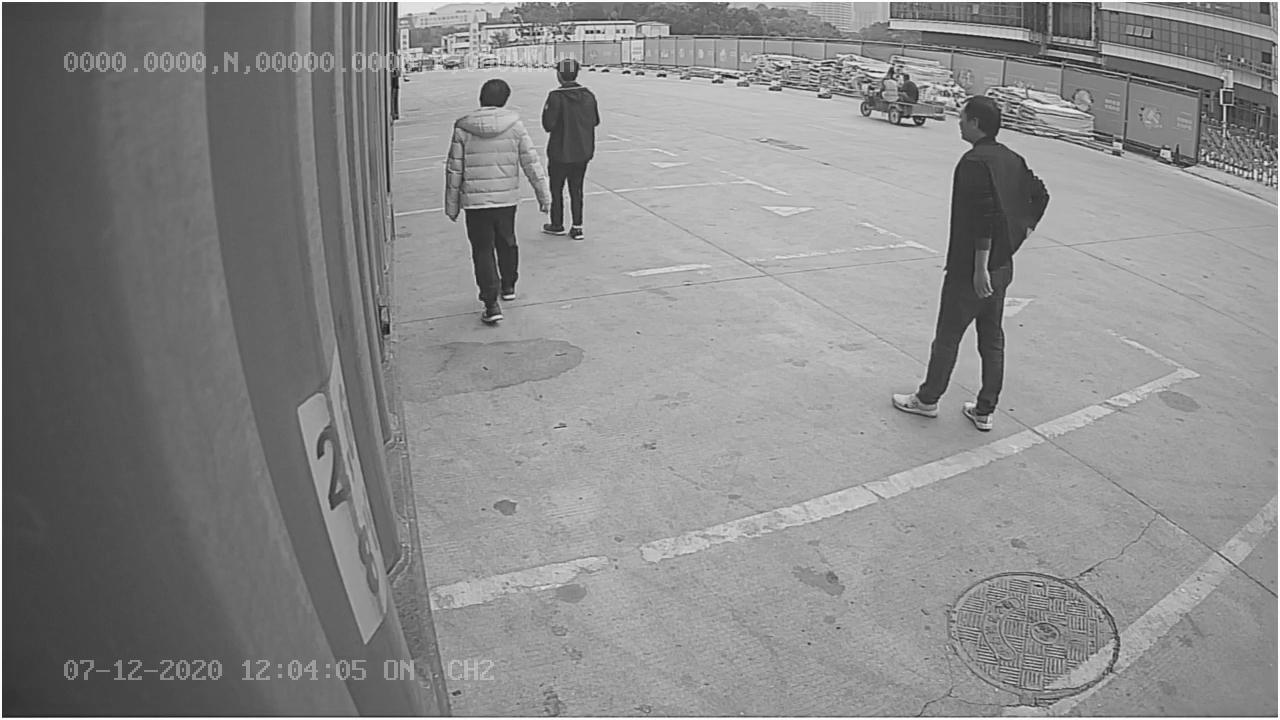person: (891, 87, 1052, 432), (440, 73, 552, 329)
